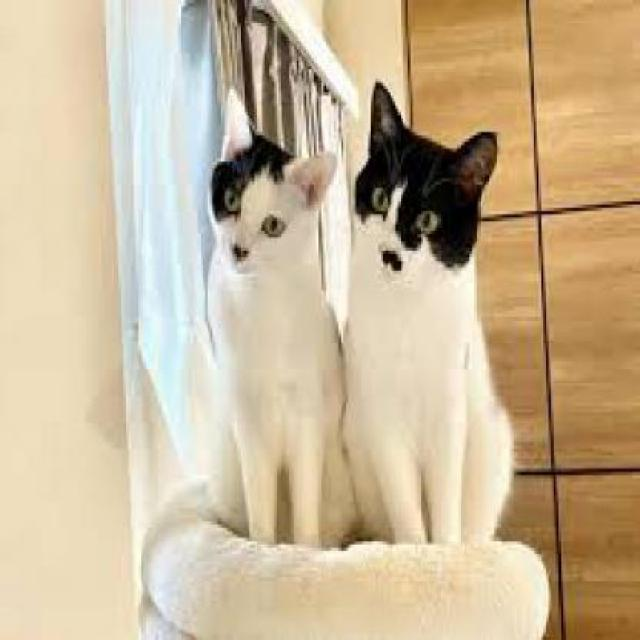cat: (344, 78, 516, 545), (211, 86, 347, 546)
